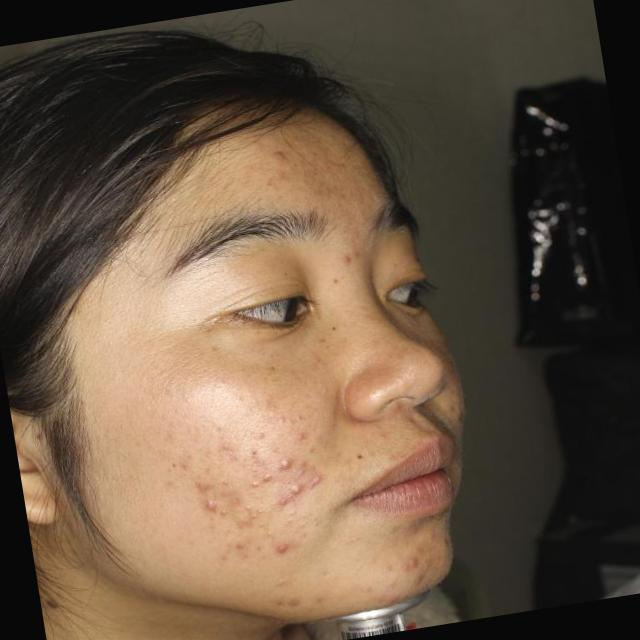acne: (225, 532, 258, 563), (274, 591, 306, 619), (249, 466, 278, 494), (189, 472, 219, 498), (196, 494, 226, 516), (235, 510, 268, 530), (334, 247, 362, 269), (271, 447, 294, 472), (401, 549, 426, 572), (282, 479, 310, 499), (273, 143, 290, 173), (268, 534, 289, 556), (412, 570, 437, 588), (296, 462, 322, 478)
